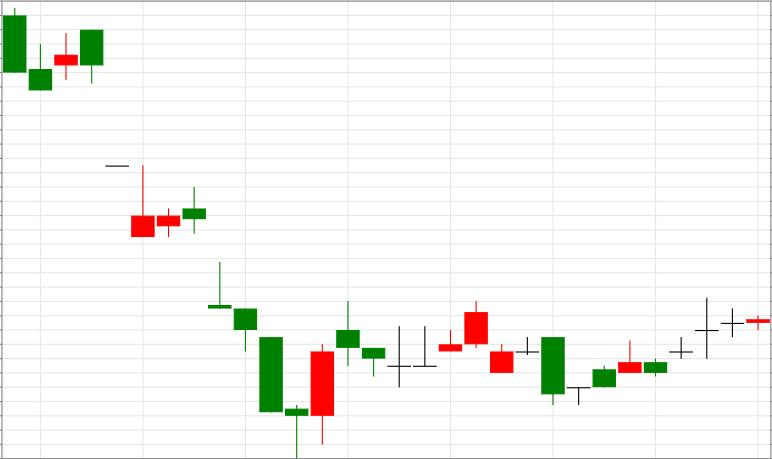morning_star_rise: (182, 186, 335, 458)
